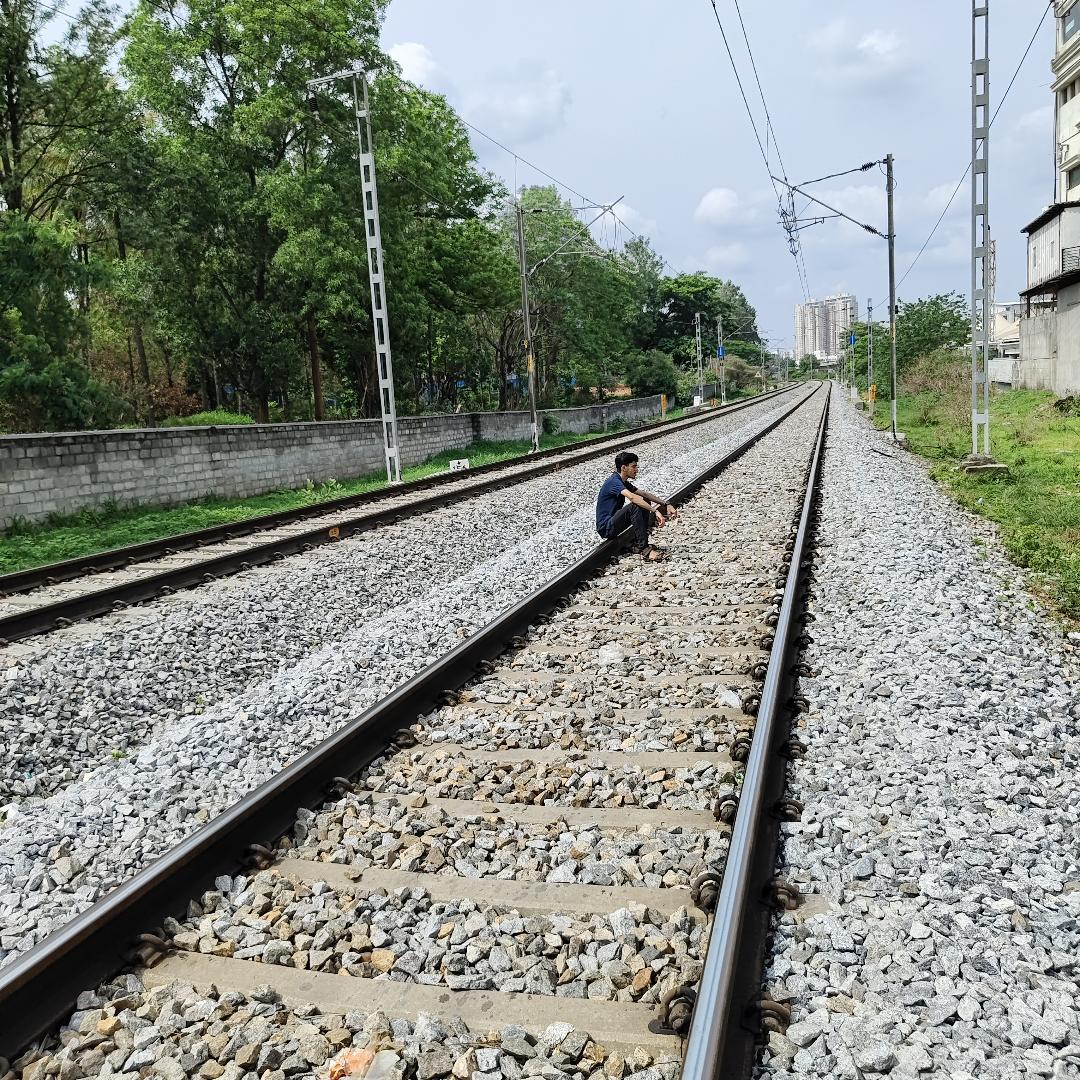sitting: (593, 444, 697, 575)
track: (0, 378, 840, 1080)
